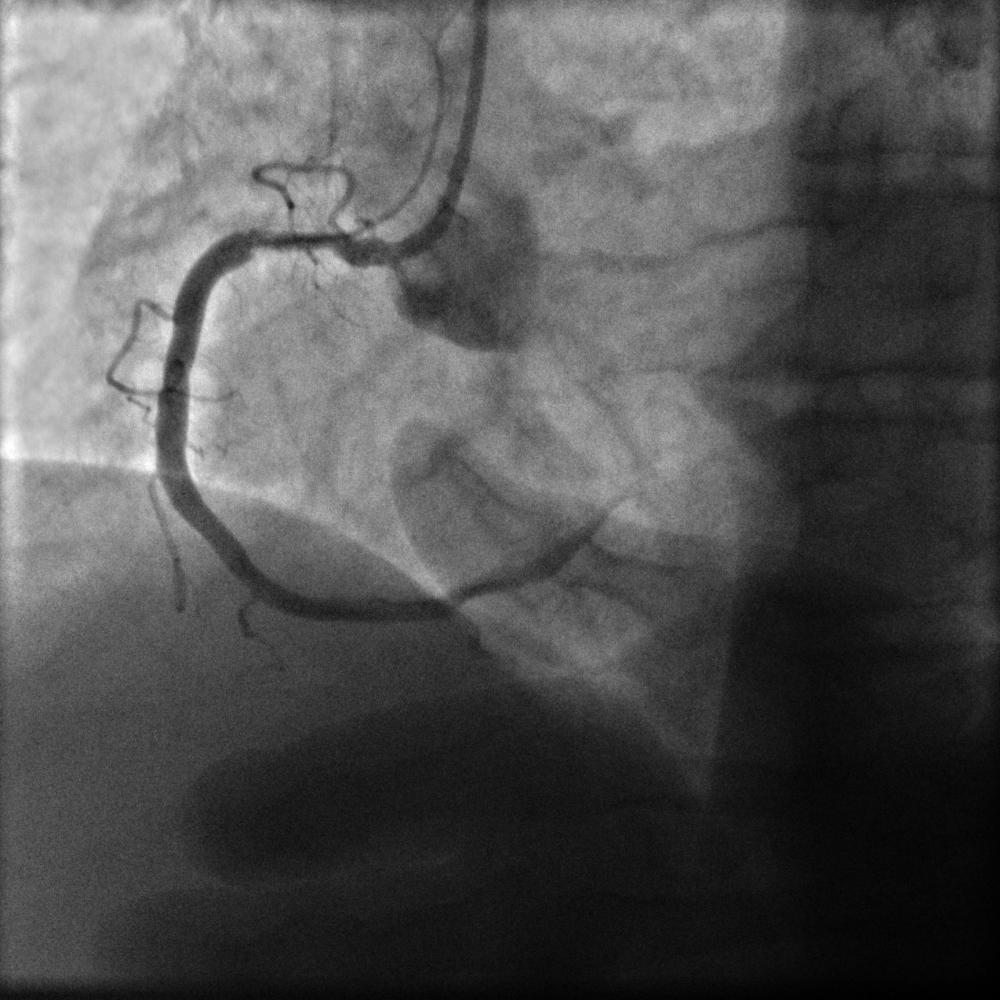Stenosis: (245, 214, 362, 274)
